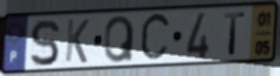4: (185, 10, 212, 61)
C: (138, 10, 173, 66)
K: (63, 18, 91, 65)
Q: (103, 14, 136, 65)
S: (29, 18, 61, 69)
T: (222, 10, 247, 57)
